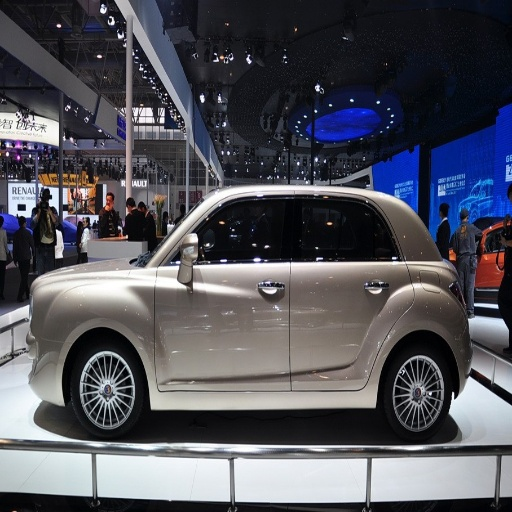back_glass: (14, 3, 90, 56)
